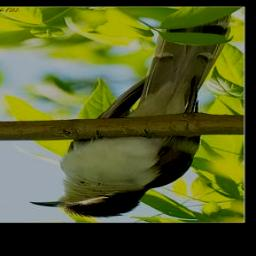Cuckoo: (30, 11, 234, 218)
